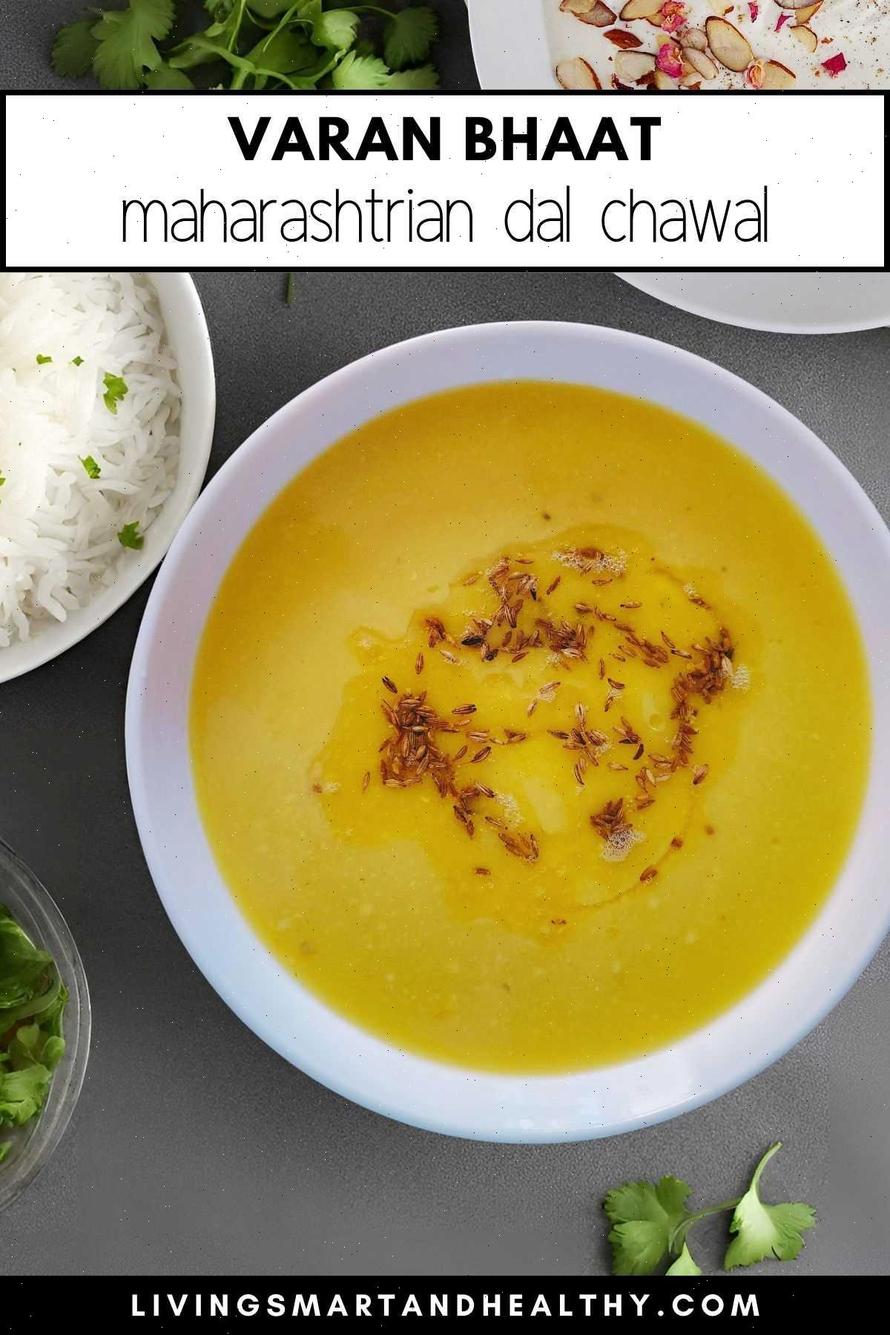varan: (188, 372, 890, 1083)
